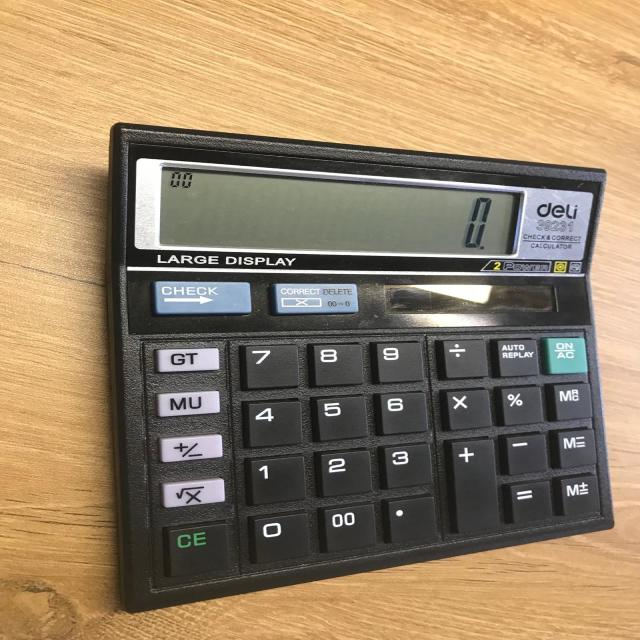calculator: (105, 120, 616, 614)
